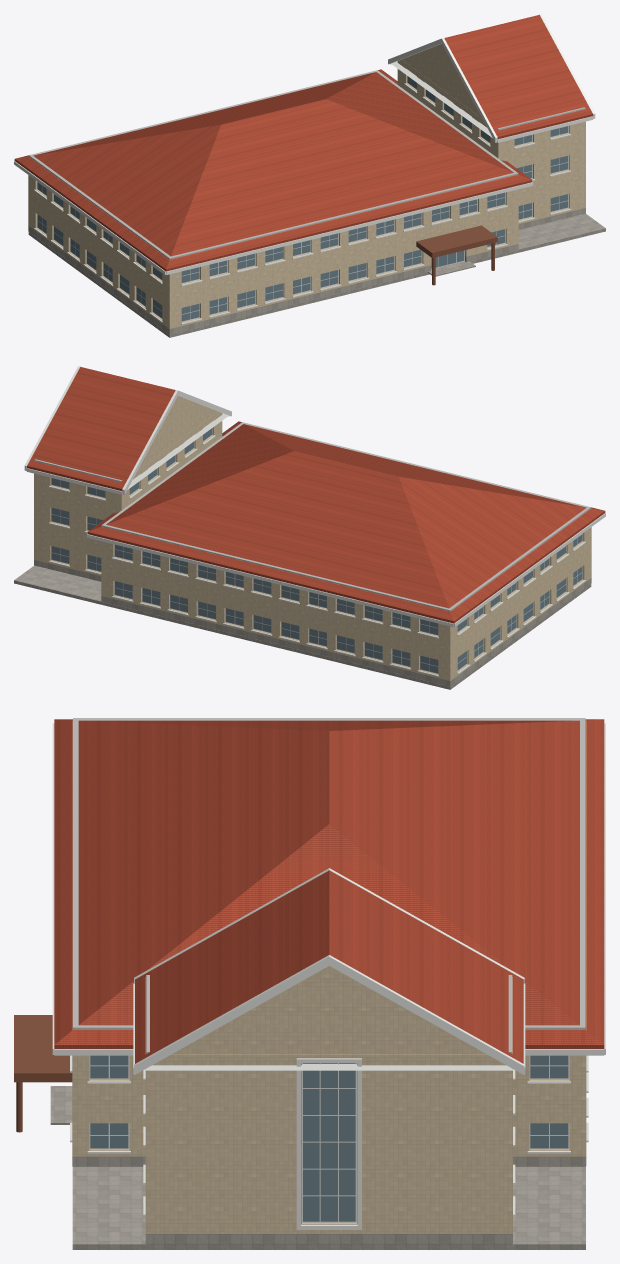
3 renders of one model, top to bottom at view 1: azimuth 30°, elevation 25°; view 2: azimuth 150°, elevation 25°; view 3: azimuth 270°, elevation 25°, orthographic. The views are drawn at different scales.
Visible parts, largest first — view 1: yeonhak__roof, yeonhak__tile, yeonhak__glass, yeonhak__stone, yeonhak__trim, yeonhak__slab, yeonhak__frame, yeonhak__canopy, yeonhak__soffit; view 2: yeonhak__roof, yeonhak__tile, yeonhak__glass, yeonhak__stone, yeonhak__trim, yeonhak__slab, yeonhak__frame, yeonhak__soffit; view 3: yeonhak__roof, yeonhak__tile, yeonhak__stone, yeonhak__trim, yeonhak__glass, yeonhak__slab, yeonhak__canopy, yeonhak__frame, yeonhak__soffit, yeonhak__threshold-front.
Boxes of the visible parts, x1=… form: yeonhak__roof: x1=14, y1=15, x2=592, y2=271; yeonhak__tile: x1=28, y1=44, x2=585, y2=328; yeonhak__glass: x1=37, y1=76, x2=568, y2=321; yeonhak__stone: x1=28, y1=208, x2=605, y2=337; yeonhak__trim: x1=14, y1=14, x2=595, y2=324; yeonhak__slab: x1=28, y1=70, x2=585, y2=259; yeonhak__frame: x1=37, y1=76, x2=568, y2=321; yeonhak__canopy: x1=416, y1=225, x2=497, y2=285; yeonhak__soffit: x1=391, y1=61, x2=492, y2=137; yeonhak__roof: x1=27, y1=367, x2=605, y2=623; yeonhak__tile: x1=34, y1=396, x2=591, y2=680; yeonhak__glass: x1=51, y1=428, x2=582, y2=673; yeonhak__stone: x1=14, y1=560, x2=591, y2=689; yeonhak__trim: x1=24, y1=366, x2=605, y2=676; yeonhak__slab: x1=34, y1=422, x2=591, y2=611; yeonhak__frame: x1=51, y1=428, x2=582, y2=673; yeonhak__soffit: x1=127, y1=413, x2=228, y2=489; yeonhak__roof: x1=54, y1=719, x2=604, y2=1063; yeonhak__tile: x1=72, y1=720, x2=586, y2=1233; yeonhak__stone: x1=72, y1=1156, x2=586, y2=1249; yeonhak__trim: x1=52, y1=723, x2=605, y2=1229; yeonhak__glass: x1=90, y1=1055, x2=568, y2=1221; yeonhak__slab: x1=73, y1=718, x2=585, y2=1053; yeonhak__canopy: x1=14, y1=1015, x2=72, y2=1132; yeonhak__frame: x1=89, y1=1055, x2=569, y2=1222; yeonhak__soffit: x1=143, y1=1064, x2=515, y2=1070; yeonhak__threshold-front: x1=50, y1=1086, x2=72, y2=1124.
Size of the model in its own units: 51.82 by 17.98 by 32.29.
Materials: 9 (3 with a texture image).
